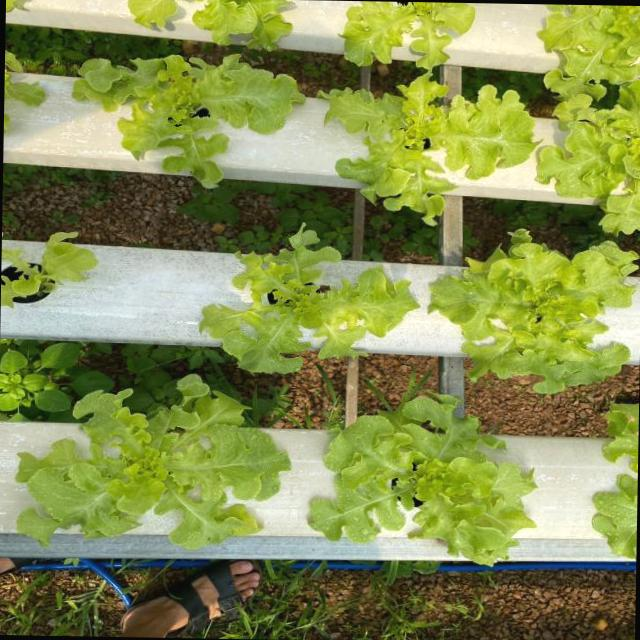Lettuce-Not-Ready-to-Harvest: (212, 226, 418, 372), (84, 58, 304, 188), (324, 81, 535, 209), (543, 90, 640, 232)
Lettuce-Ready-to-Harvest: (13, 373, 288, 548), (306, 395, 534, 567), (426, 235, 638, 394)
